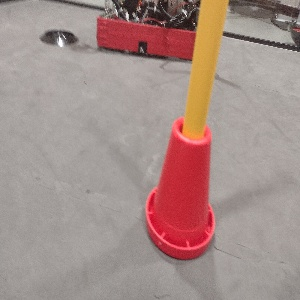Red_1: (144, 112, 216, 261), (143, 184, 147, 188)
